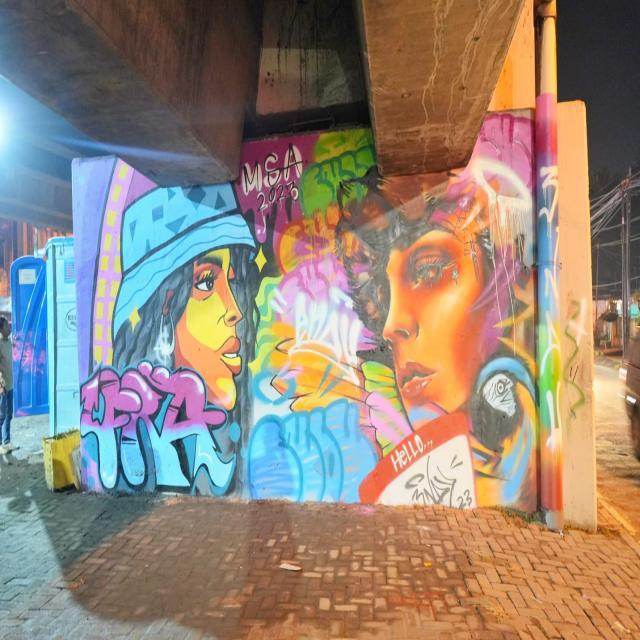-: (78, 114, 555, 508), (565, 296, 590, 424)
